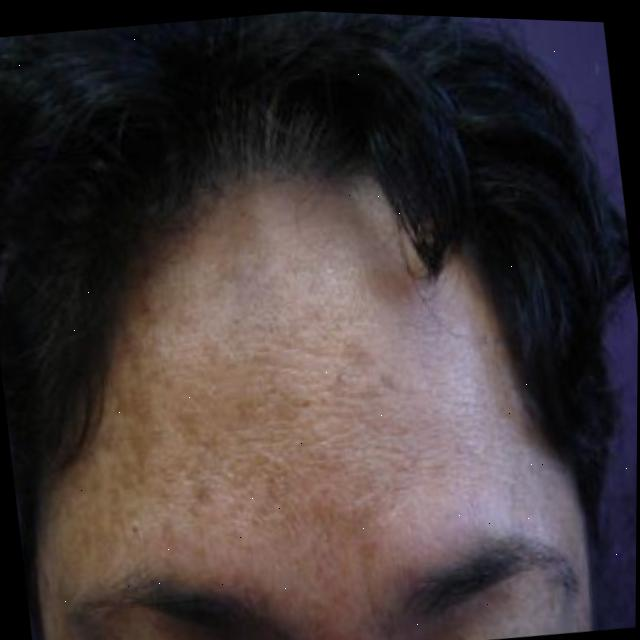Melasma: (88, 304, 382, 509)
